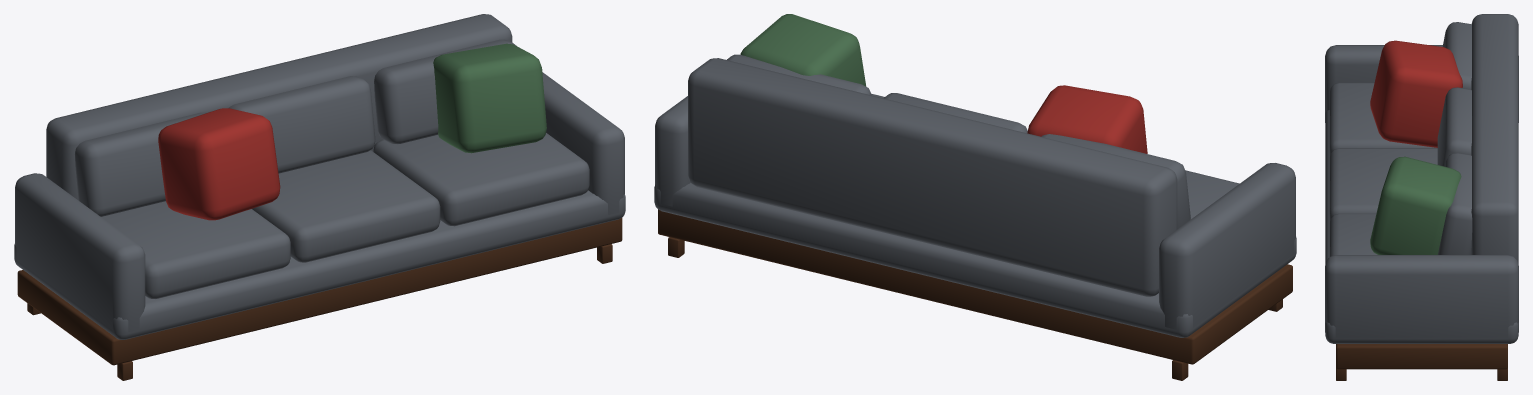
The model's file is Sofa_3Seat.glb.
3 renders of one model, left to right at view 1: azimuth 30°, elevation 25°; view 2: azimuth 150°, elevation 25°; view 3: azimuth 270°, elevation 25°, orthographic. The views are drawn at different scales.
Visible parts, largest first — view 1: Sofa_3Seat; view 2: Sofa_3Seat; view 3: Sofa_3Seat.
Part boxes in pixels (left/top/right/bottom): Sofa_3Seat: left=14, top=14, right=625, bottom=380; Sofa_3Seat: left=654, top=14, right=1296, bottom=380; Sofa_3Seat: left=1325, top=14, right=1518, bottom=380.
Size of the model in its own units: 2.46 by 0.8998 by 0.901.
